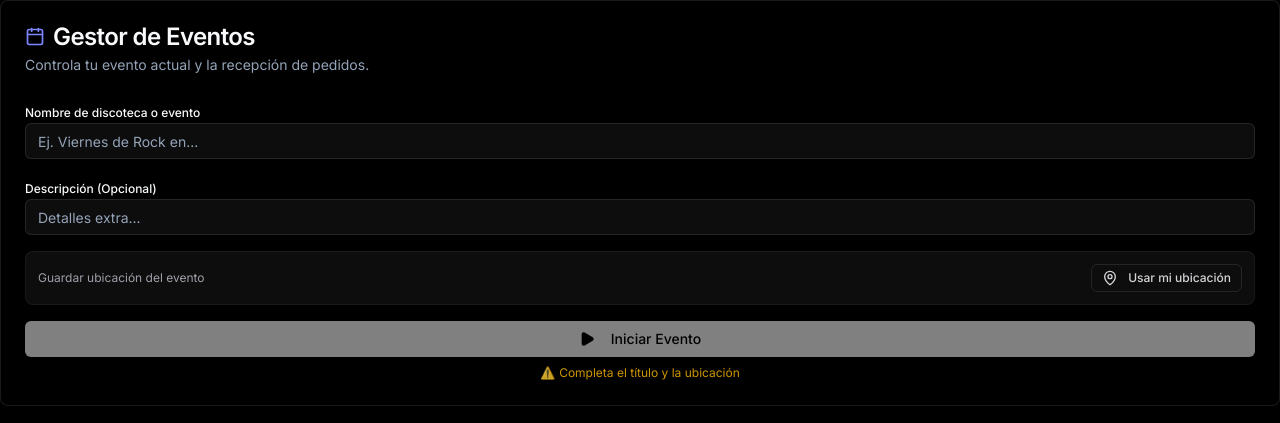
Test: EventManager › shows 'La ubicación es obligatoria' when title is set but location is not
Expected: the heading "Gestor de Eventos" is shown, [25,22,255,51]
Type "My Event" into the field labelled "Nombre de discoteca o evento" at [640, 141], box [25,123,1255,159]
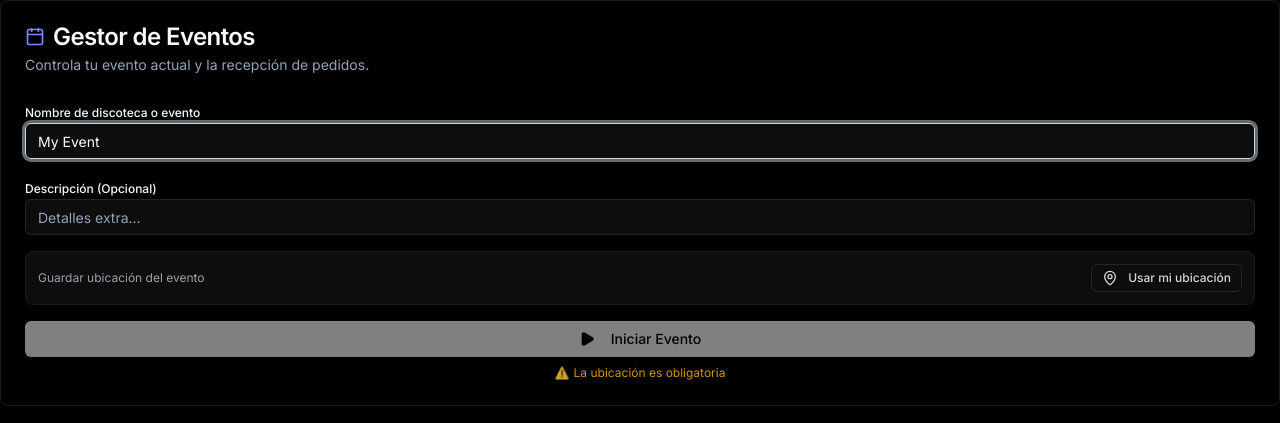
Expected: the text "La ubicación es obligatoria" is shown, [574,365,725,380]
